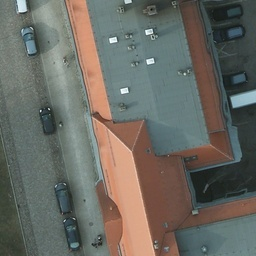car: (37, 105, 63, 134), (219, 70, 248, 93), (209, 4, 245, 22), (62, 219, 82, 250), (21, 25, 39, 57), (211, 27, 246, 41), (13, 1, 28, 16)
van: (56, 183, 69, 212)
